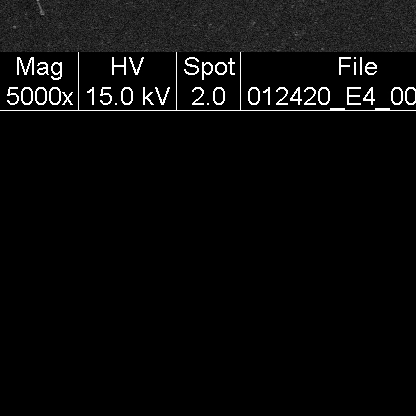cell2surface: (31, 0, 46, 16)
